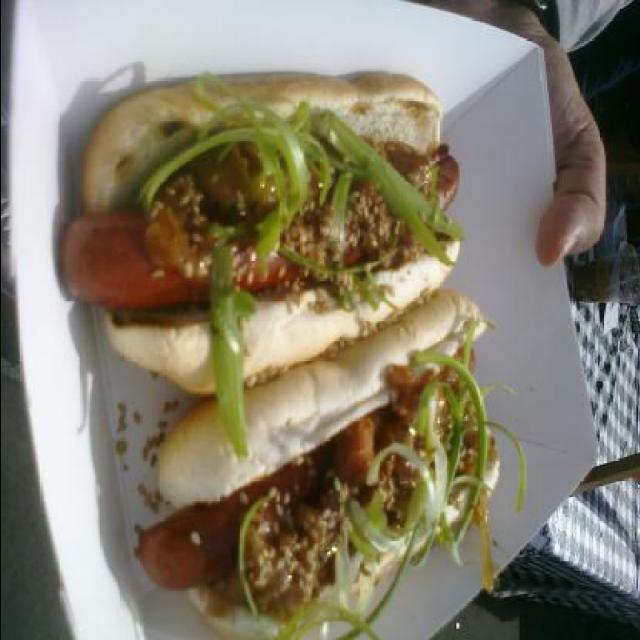Hot dog: (51, 65, 475, 403), (133, 292, 524, 640)
